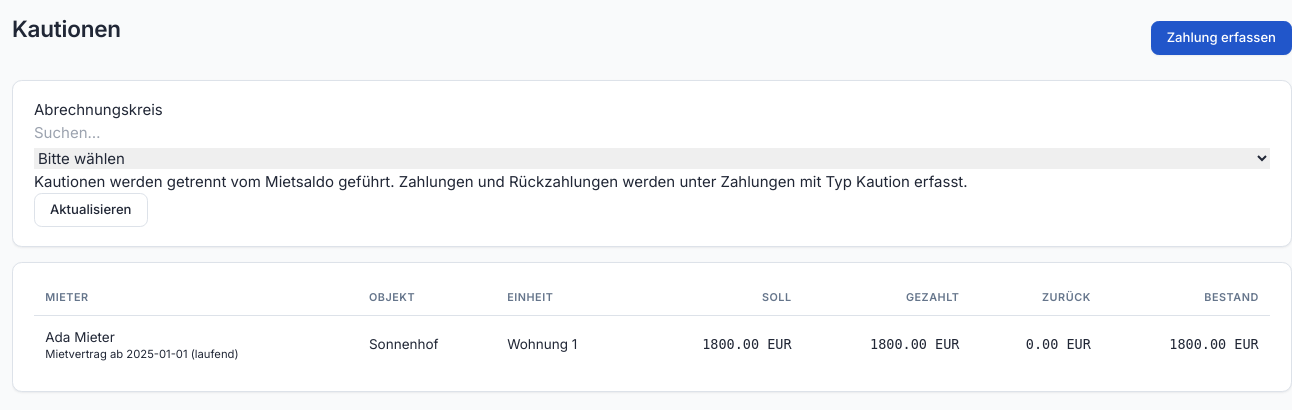
Test: clears previous amounts when refresh fails instead of reporting stale balances
Expected: the text "Ada Mieter" is shown, left=45, top=329, right=115, bottom=345
What coordinates should you click on to do the following:
click the button "Aktualisieren"
I would click on:
 (91, 210)
Its box is left=34, top=193, right=148, bottom=227.
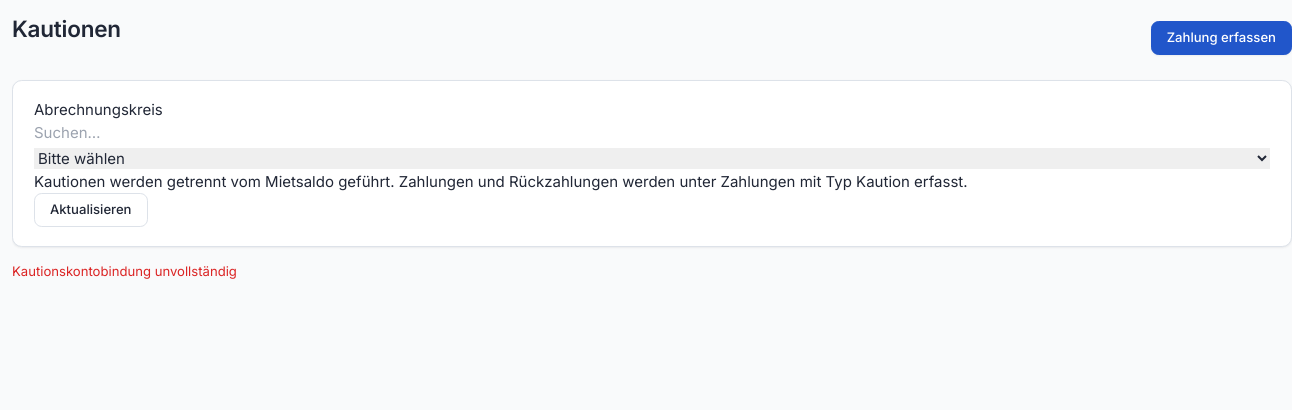
Expected: the table is gone
Expected: the message reads "Kautionskontobindung unvollständig", left=12, top=262, right=237, bottom=278
Expected: the text "1800.00 EUR" is gone
